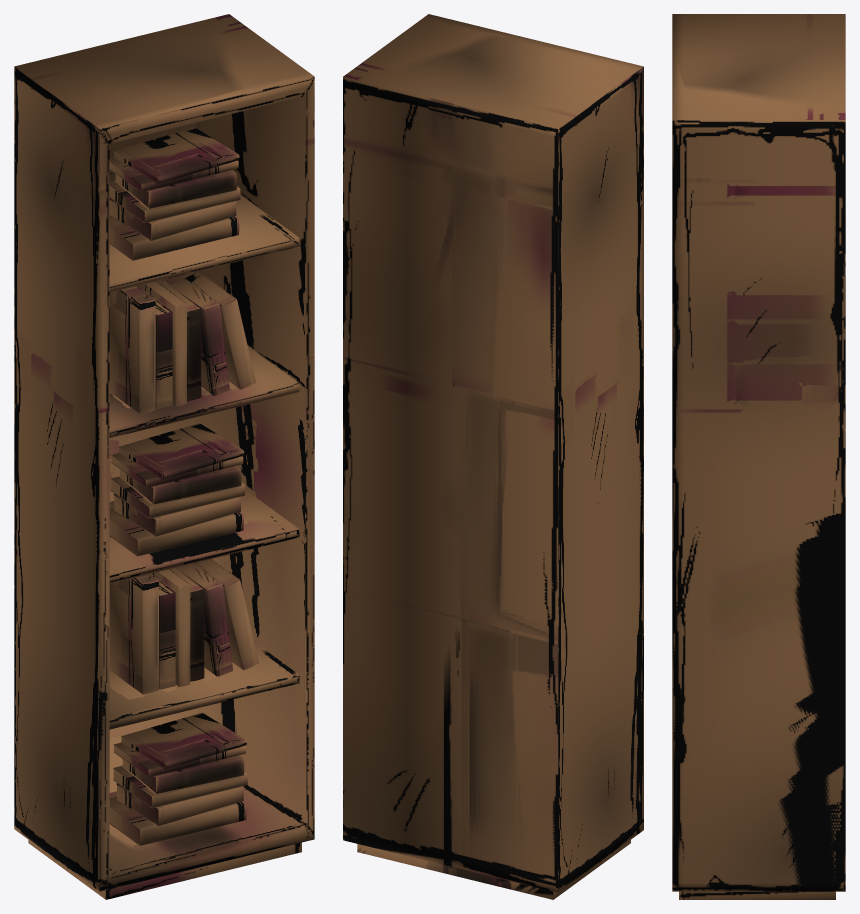
File: Bookshelf.glb
3 views of the same model, side by side, from view 1: azimuth 30°, elevation 25°; view 2: azimuth 150°, elevation 25°; view 3: azimuth 270°, elevation 25° (orthographic).
Visible parts, largest first — view 1: huitugou_2062_120.003; view 2: huitugou_2062_120.003; view 3: huitugou_2062_120.003.
Part boxes in pixels (x1,y1,x2,y2): huitugou_2062_120.003: (14,14,314,899); huitugou_2062_120.003: (343,14,643,899); huitugou_2062_120.003: (672,14,845,899).
Size of the model in its own units: 0.5223 by 1.8 by 0.36.
Materials: 1 (1 with a texture image).
